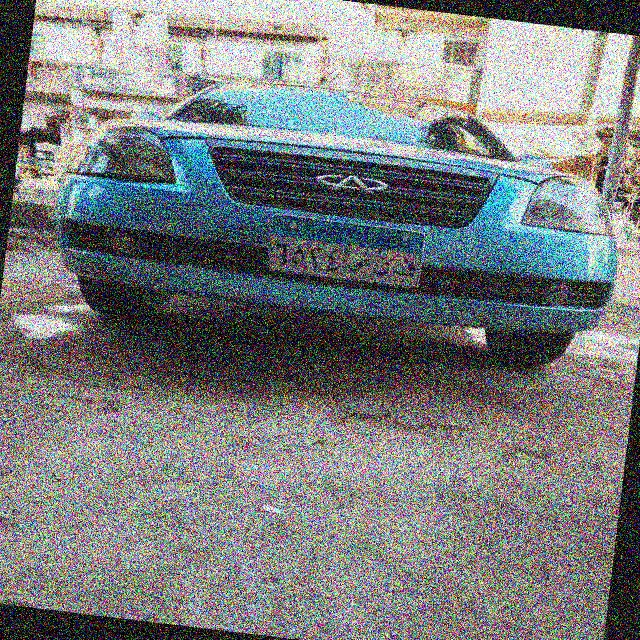License Plate: (263, 210, 429, 293)
